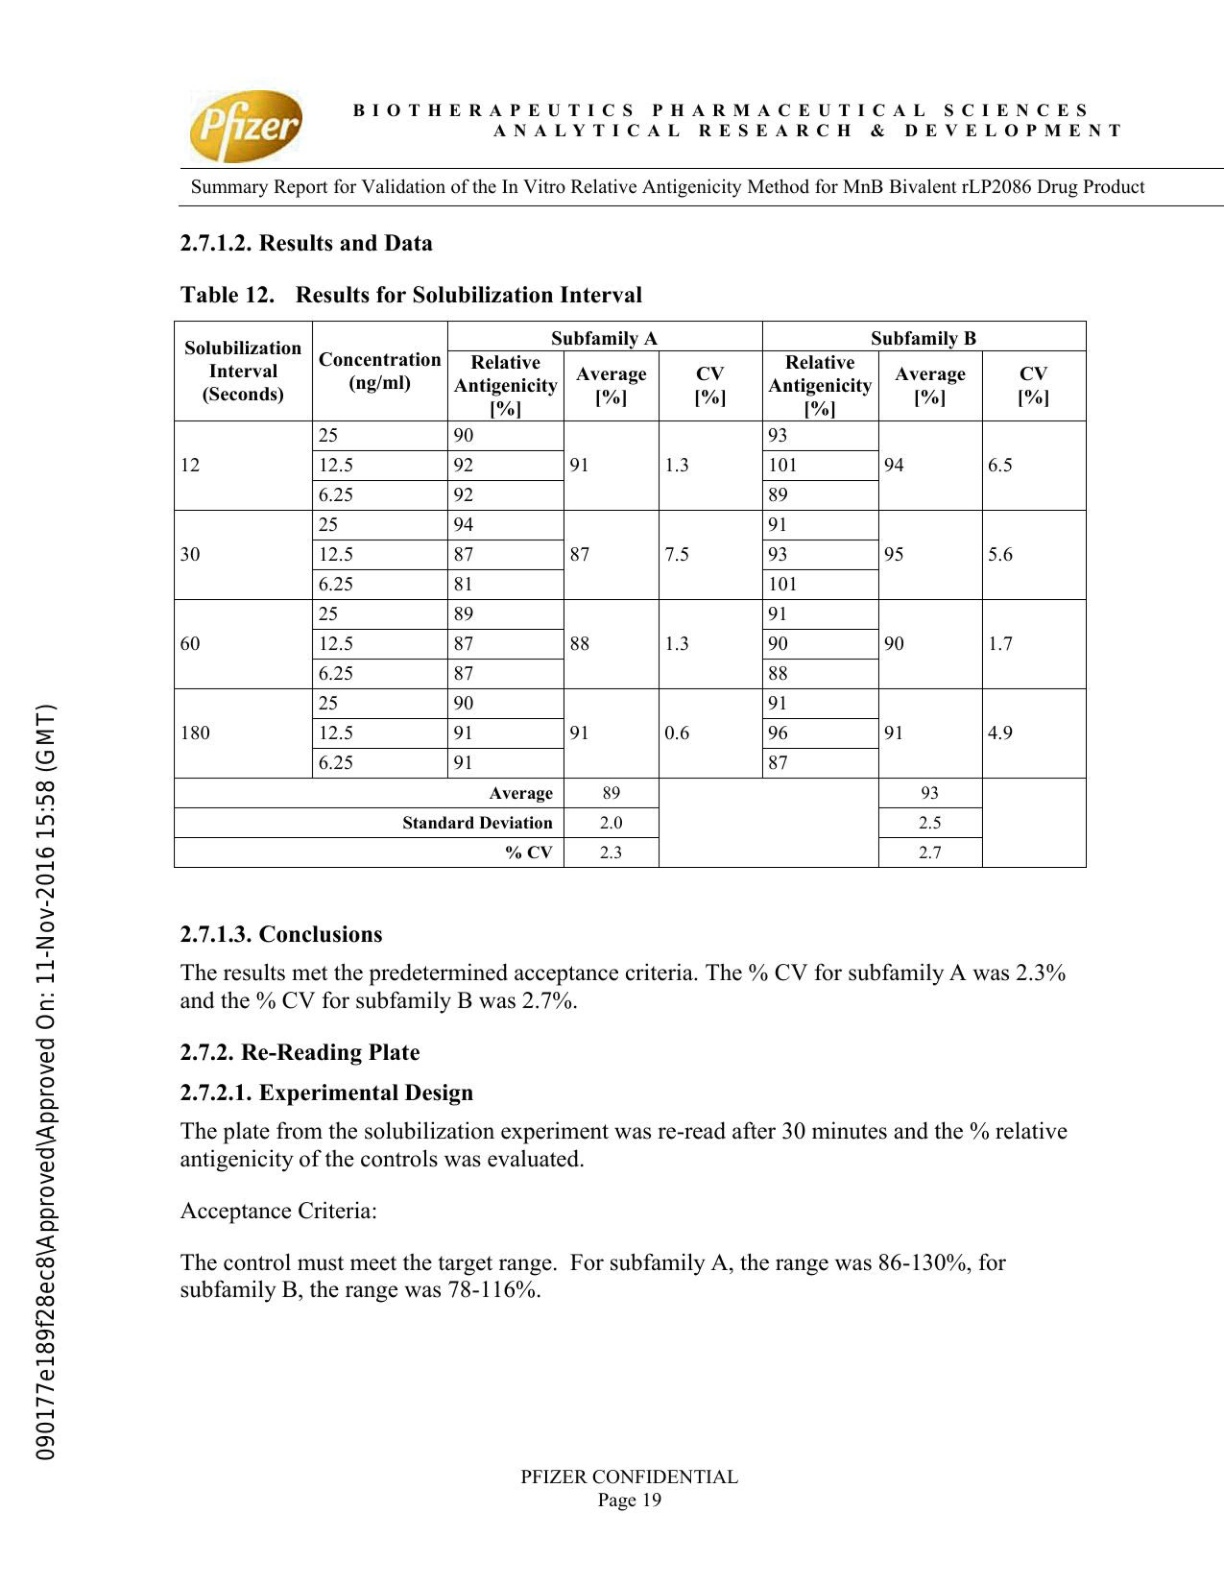merged_cells: (174, 320, 1086, 869)
